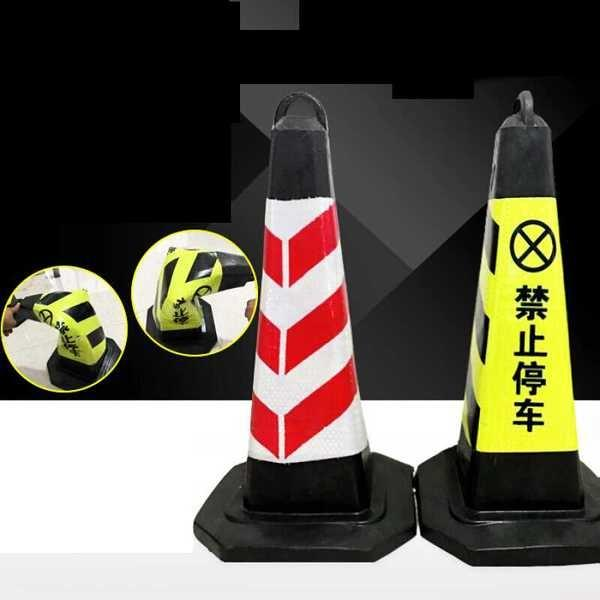cone_barrel: (415, 100, 596, 557), (213, 91, 391, 547)
